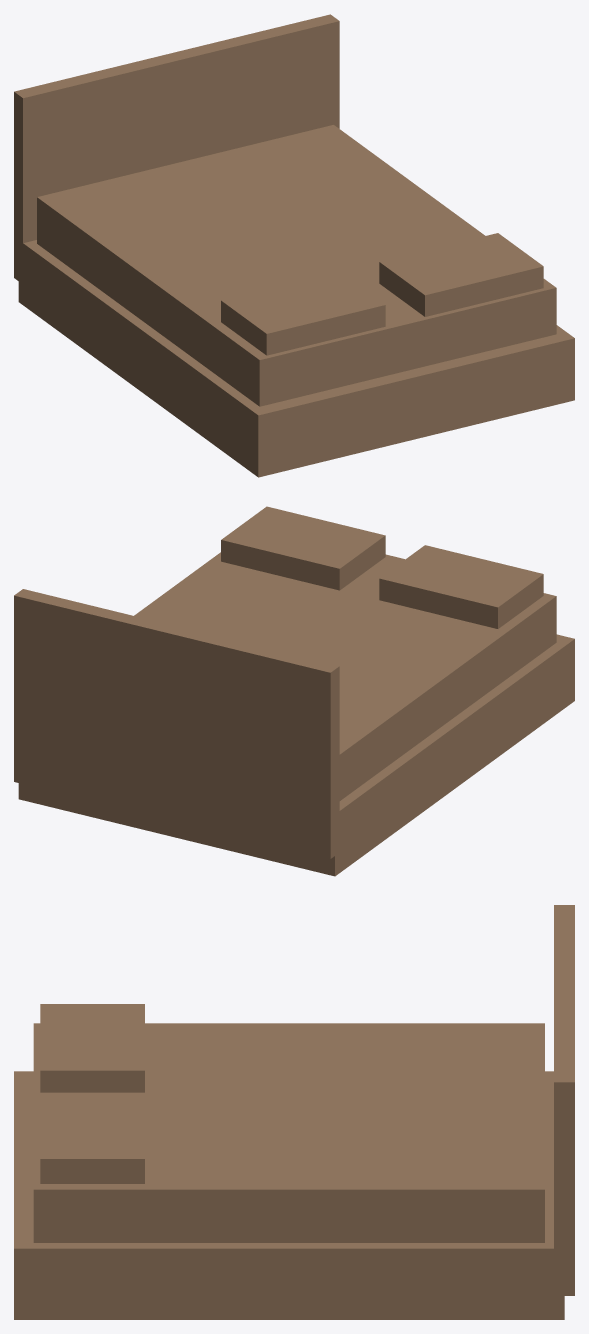
Rendered from fu_bed_double.glb.
The picture shows the model from 3 angles, top to bottom: view 1: azimuth 30°, elevation 25°; view 2: azimuth 150°, elevation 25°; view 3: azimuth 270°, elevation 25°; orthographic projection. The views are drawn at different scales.
Visible parts, largest first — view 1: fu_bed_double; view 2: fu_bed_double; view 3: fu_bed_double.
Boxes of the visible parts, x1,y1,x2,y2 form: fu_bed_double: (14, 14, 574, 477); fu_bed_double: (14, 506, 574, 876); fu_bed_double: (14, 905, 574, 1319).
Size of the model in its own units: 1.6 by 1 by 2.14.
